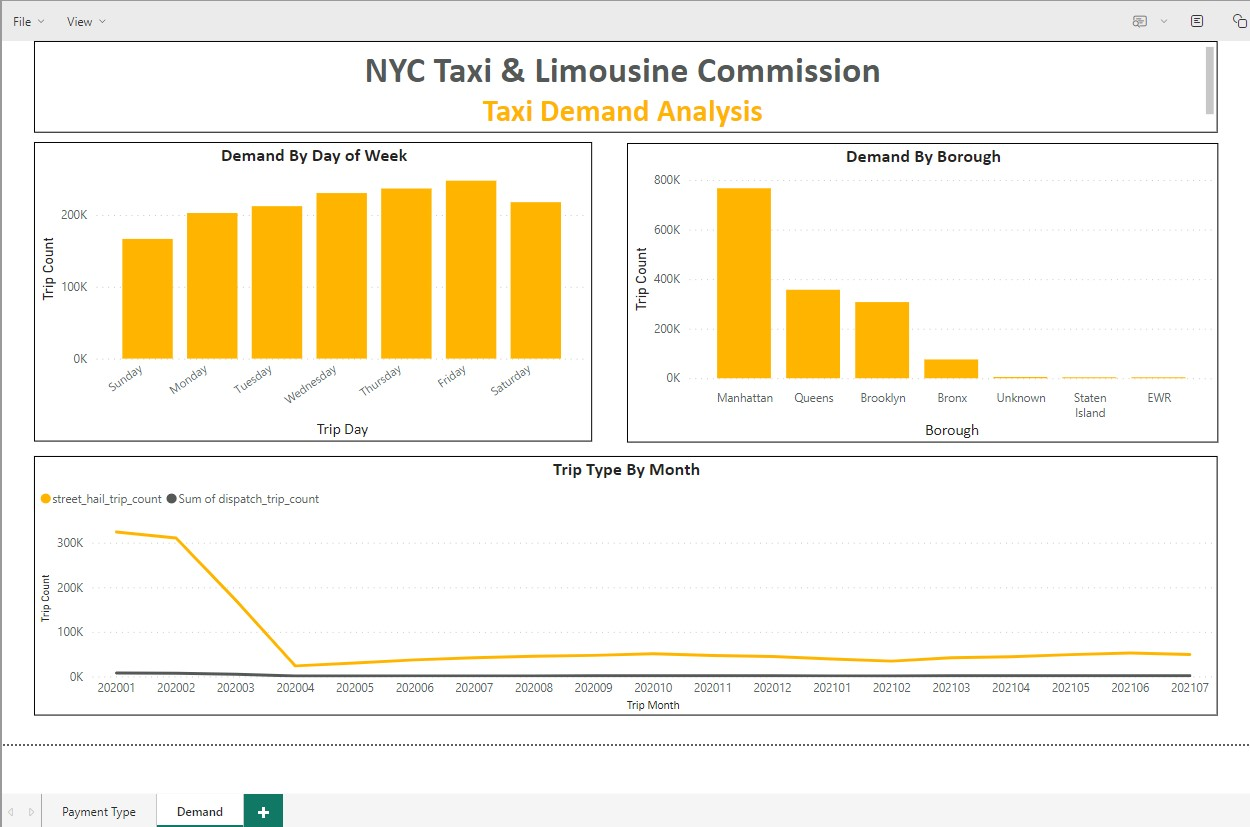

What the dashboard file says about the page in this screenshot:
{"tool":"powerbi","page":{"name":"Demand","canvas":[1280,720],"ordinal":1},"visuals":[{"type":"clusteredColumnChart","title":"Demand By Day of Week","fields":{"Category":["gold vw_trip_data_green.trip_day"],"Y":["gold vw_trip_data_green.total_trip_count"]},"box":[33,104,572,307],"z":0},{"type":"clusteredColumnChart","title":"Demand By Borough","fields":{"Category":["gold vw_trip_data_green.borough"],"Y":["gold vw_trip_data_green.total_trip_count"]},"box":[640,104.1,606,307.4],"z":1000},{"type":"lineChart","title":"Trip Type By Month","fields":{"Category":["gold vw_trip_data_green.year_month"],"Y":["Sum(gold vw_trip_data_green.street_hail_trip_count)","Sum(gold vw_trip_data_green.dispatch_trip_count)"]},"box":[33.1,425,1212.9,265.5],"z":2000},{"type":"textbox","box":[33.1,0,1212.9,94.3],"z":3000}]}

Visuals, with their boxes on the page's 1280x720 design canvas (x1, y1, x2, y2). These are canvas units, not pixel positions in the 1250x827 screenshot, which may show the page scaled, cropped or inside an application window:
"Demand By Day of Week" clusteredColumnChart: l=33, t=104, r=605, b=411
"Demand By Borough" clusteredColumnChart: l=640, t=104, r=1246, b=412
"Trip Type By Month" lineChart: l=33, t=425, r=1246, b=690
textbox: l=33, t=0, r=1246, b=94
